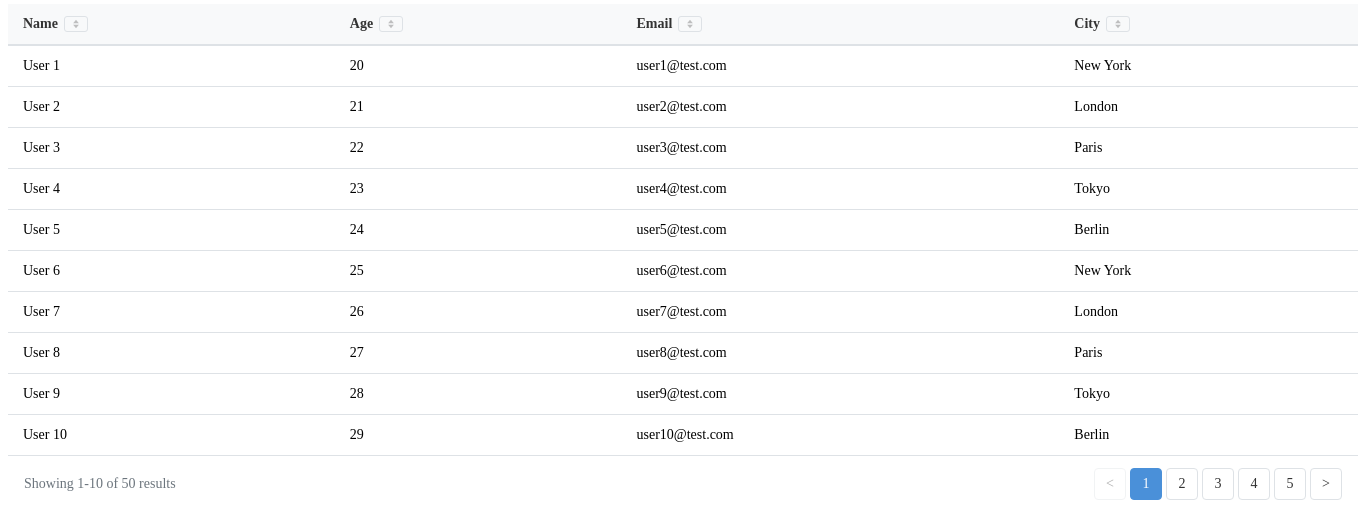
it: Table Component › Pagination › navigates with prev/next buttons
Click the button named "Next page" at (1326, 484), box [1310, 468, 1342, 500]
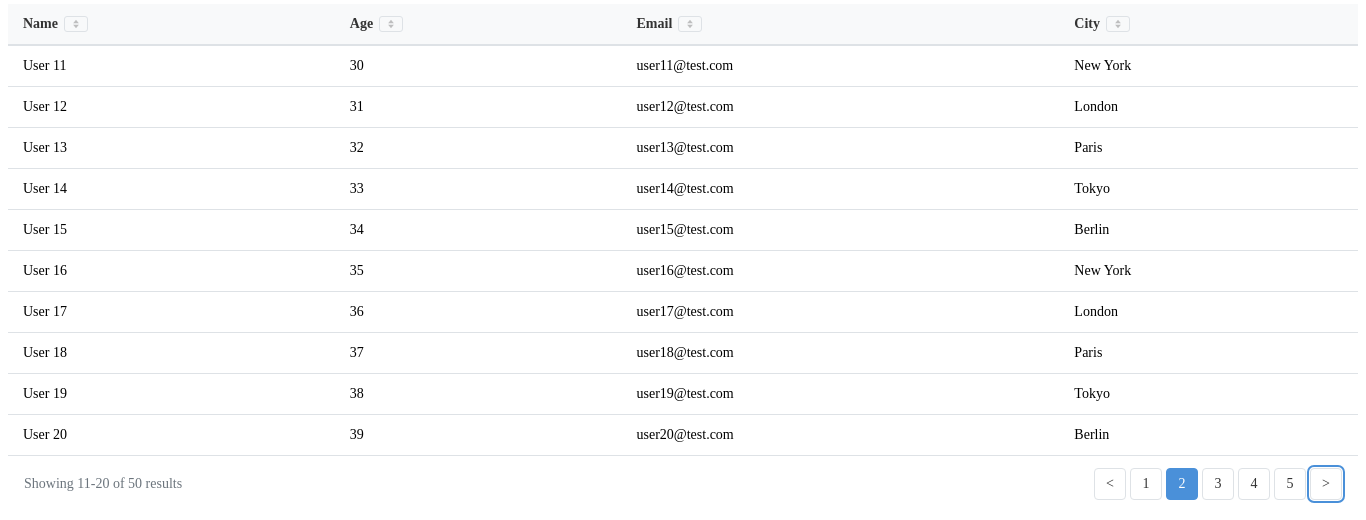
expect the text "Showing 11-20 of 50 results" is shown: met, box [24, 476, 182, 492]
Click the button named "Previous page" at (1110, 484), box [1094, 468, 1126, 500]
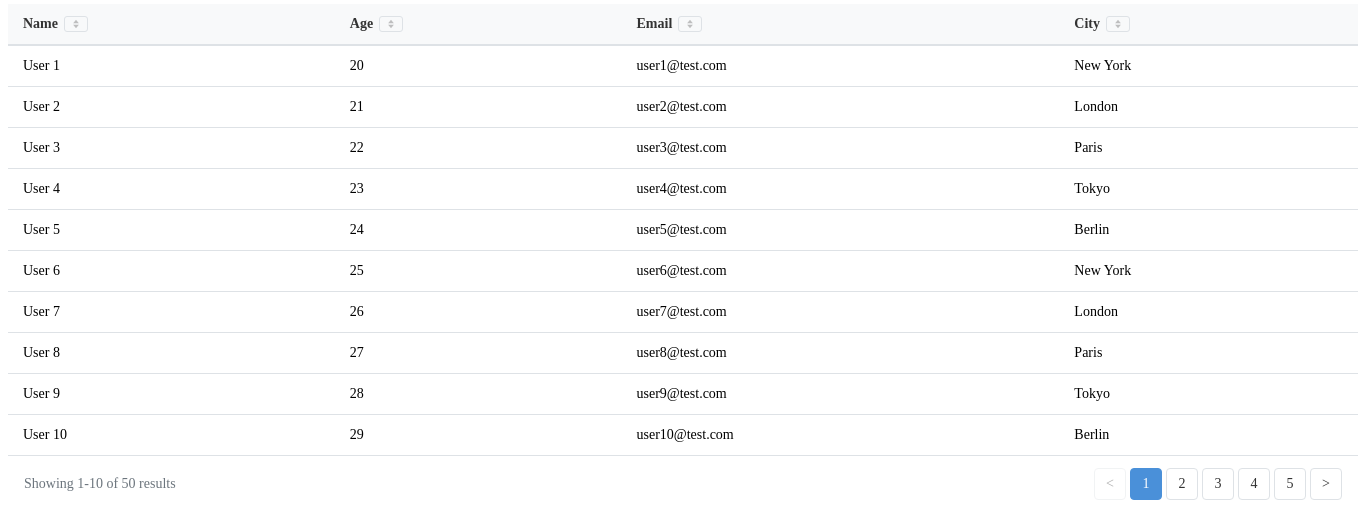
expect the text "Showing 1-10 of 50 results" is shown: met, box [24, 476, 176, 492]
